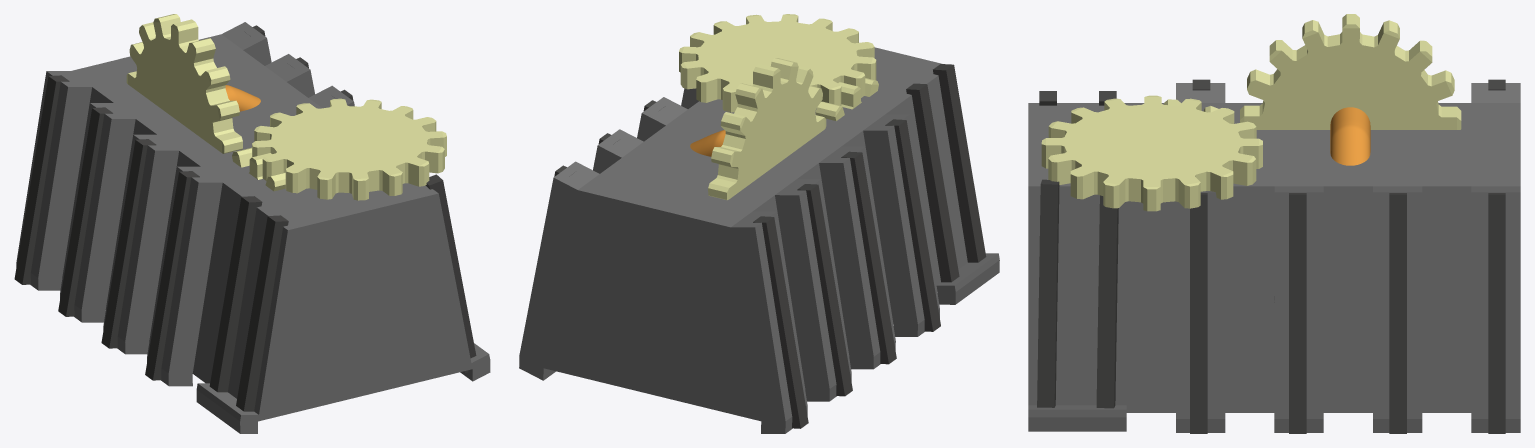
The model's file is SteamMachine.fbx.
3 views of the same model, side by side, from view 1: azimuth 30°, elevation 25°; view 2: azimuth 150°, elevation 25°; view 3: azimuth 270°, elevation 25° (orthographic). The views are drawn at different scales.
Parts seen in each view (by area): view 1: Куб, Куб.012, Цилиндр.004, Цилиндр.001, Цилиндр, Цилиндр.003; view 2: Куб, Куб.012, Цилиндр.004, Цилиндр.001, Цилиндр, Цилиндр.003; view 3: Куб, Куб.012, Цилиндр.004, Цилиндр.001, Цилиндр.003.
Boxes of the visible parts, left/top/right/bottom form: Куб: left=16, top=22, right=490, bottom=433; Куб.012: left=14, top=25, right=476, bottom=411; Цилиндр.004: left=252, top=98, right=446, bottom=200; Цилиндр.001: left=126, top=14, right=242, bottom=153; Цилиндр: left=232, top=147, right=285, bottom=191; Цилиндр.003: left=225, top=85, right=260, bottom=111; Куб: left=519, top=47, right=999, bottom=433; Куб.012: left=554, top=64, right=986, bottom=428; Цилиндр.004: left=679, top=14, right=876, bottom=112; Цилиндр.001: left=708, top=58, right=826, bottom=200; Цилиндр: left=815, top=78, right=878, bottom=120; Цилиндр.003: left=690, top=130, right=725, bottom=156; Куб: left=1028, top=83, right=1520, bottom=432; Куб.012: left=1037, top=79, right=1505, bottom=433; Цилиндр.004: left=1041, top=95, right=1262, bottom=211; Цилиндр.001: left=1240, top=14, right=1461, bottom=129; Цилиндр.003: left=1330, top=107, right=1370, bottom=165.
Size of the model in its own units: 406 by 407 by 554.
